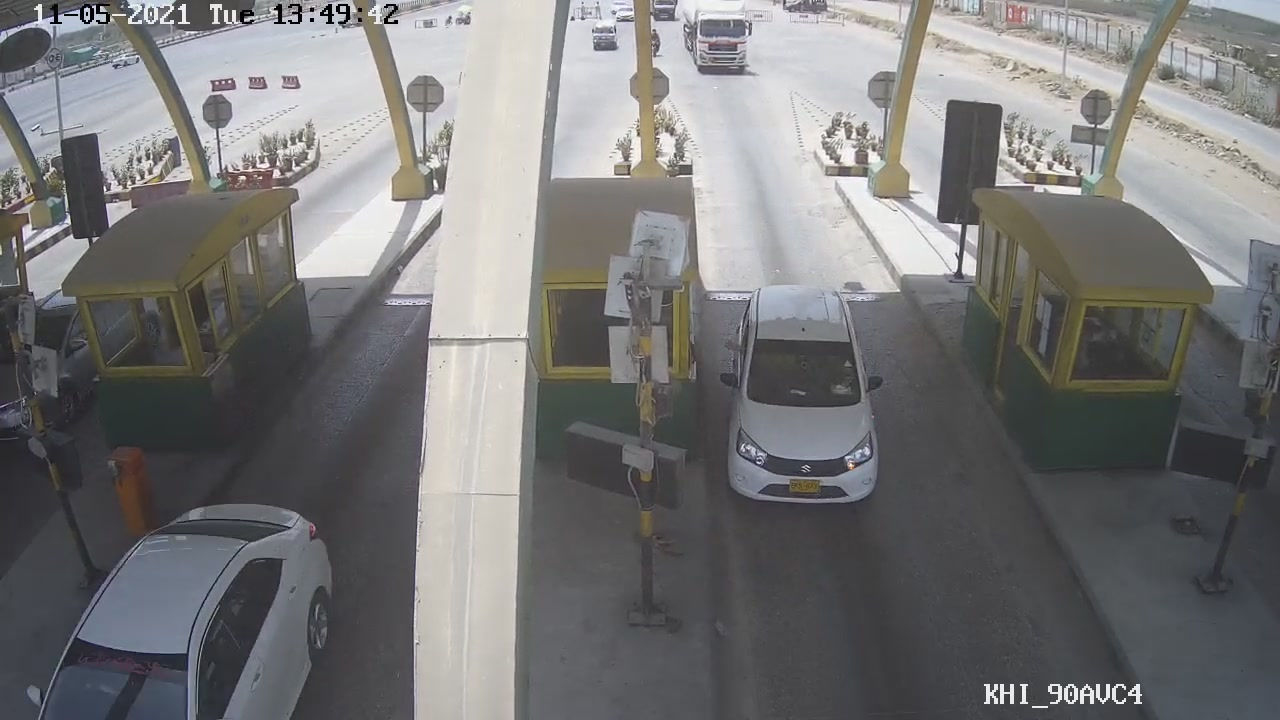F1: (707, 273, 903, 515)
